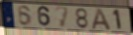1: (113, 9, 123, 31)
6: (17, 5, 33, 27), (37, 5, 52, 28)
7: (55, 6, 70, 29)
8: (74, 8, 89, 29)
A: (91, 8, 113, 31)
